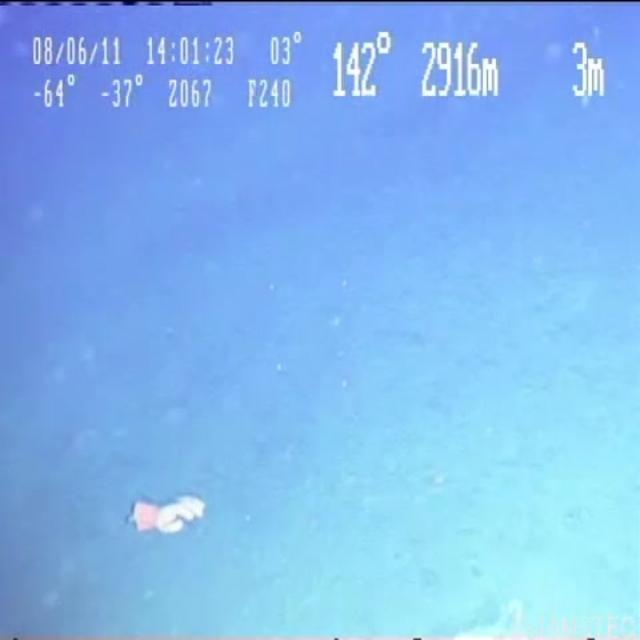Accessories: (130, 476, 228, 554)
